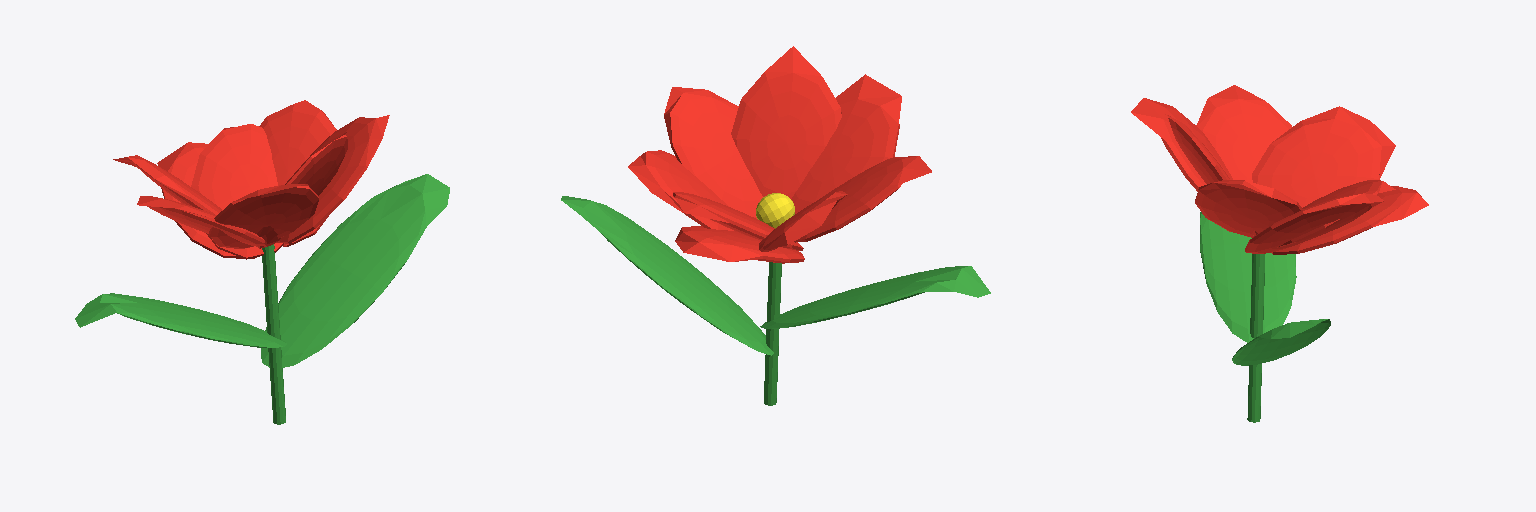
3 renders of one model, left to right at view 1: azimuth 30°, elevation 25°; view 2: azimuth 150°, elevation 25°; view 3: azimuth 270°, elevation 25°, orthographic.
Visible parts, largest first — view 1: group[number redacted], group[number redacted], group[number redacted], group[number redacted], group[number redacted], group[number redacted], group[number redacted], group[number redacted], group[number redacted], group[number redacted], group[number redacted]; view 2: group[number redacted], group[number redacted], group[number redacted], group[number redacted], group[number redacted], group[number redacted], group[number redacted], group[number redacted], group[number redacted], group[number redacted], group[number redacted], group[number redacted]; view 3: group[number redacted], group[number redacted], group[number redacted], group[number redacted], group[number redacted], group[number redacted], group[number redacted], group[number redacted], group[number redacted], group[number redacted], group[number redacted].
Boxes of the visible parts, <box> form: group[number redacted]: <box>261,174,449,367</box>; group[number redacted]: <box>191,124,283,259</box>; group[number redacted]: <box>75,293,286,347</box>; group[number redacted]: <box>209,184,318,248</box>; group[number redacted]: <box>259,100,336,246</box>; group[number redacted]: <box>276,115,389,243</box>; group[number redacted]: <box>262,244,285,424</box>; group[number redacted]: <box>257,132,347,248</box>; group[number redacted]: <box>137,196,267,246</box>; group[number redacted]: <box>157,142,256,258</box>; group[number redacted]: <box>113,155,222,214</box>; group[number redacted]: <box>731,46,841,198</box>; group[number redacted]: <box>561,196,773,355</box>; group[number redacted]: <box>664,87,762,218</box>; group[number redacted]: <box>791,74,901,213</box>; group[number redacted]: <box>760,266,990,328</box>; group[number redacted]: <box>794,156,931,242</box>; group[number redacted]: <box>628,150,733,230</box>; group[number redacted]: <box>675,226,804,263</box>; group[number redacted]: <box>673,192,803,250</box>; group[number redacted]: <box>759,191,847,251</box>; group[number redacted]: <box>764,262,781,405</box>; group[number redacted]: <box>756,193,794,228</box>; group[number redacted]: <box>1252,106,1395,207</box>; group[number redacted]: <box>1200,212,1296,342</box>; group[number redacted]: <box>1196,85,1291,182</box>; group[number redacted]: <box>1195,180,1302,237</box>; group[number redacted]: <box>1245,193,1383,253</box>; group[number redacted]: <box>1271,186,1428,254</box>; group[number redacted]: <box>1232,319,1330,365</box>; group[number redacted]: <box>1131,98,1232,191</box>; group[number redacted]: <box>1247,254,1264,422</box>; group[number redacted]: <box>1165,114,1257,235</box>; group[number redacted]: <box>1277,180,1395,247</box>.
Size of the model in its own units: 0.7004 by 0.5335 by 0.4537.